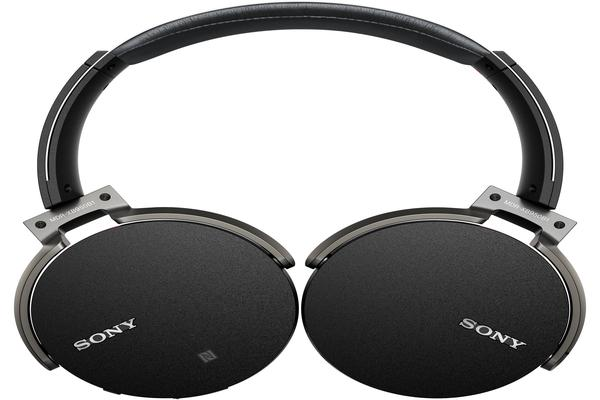headphone: (14, 5, 592, 400)
